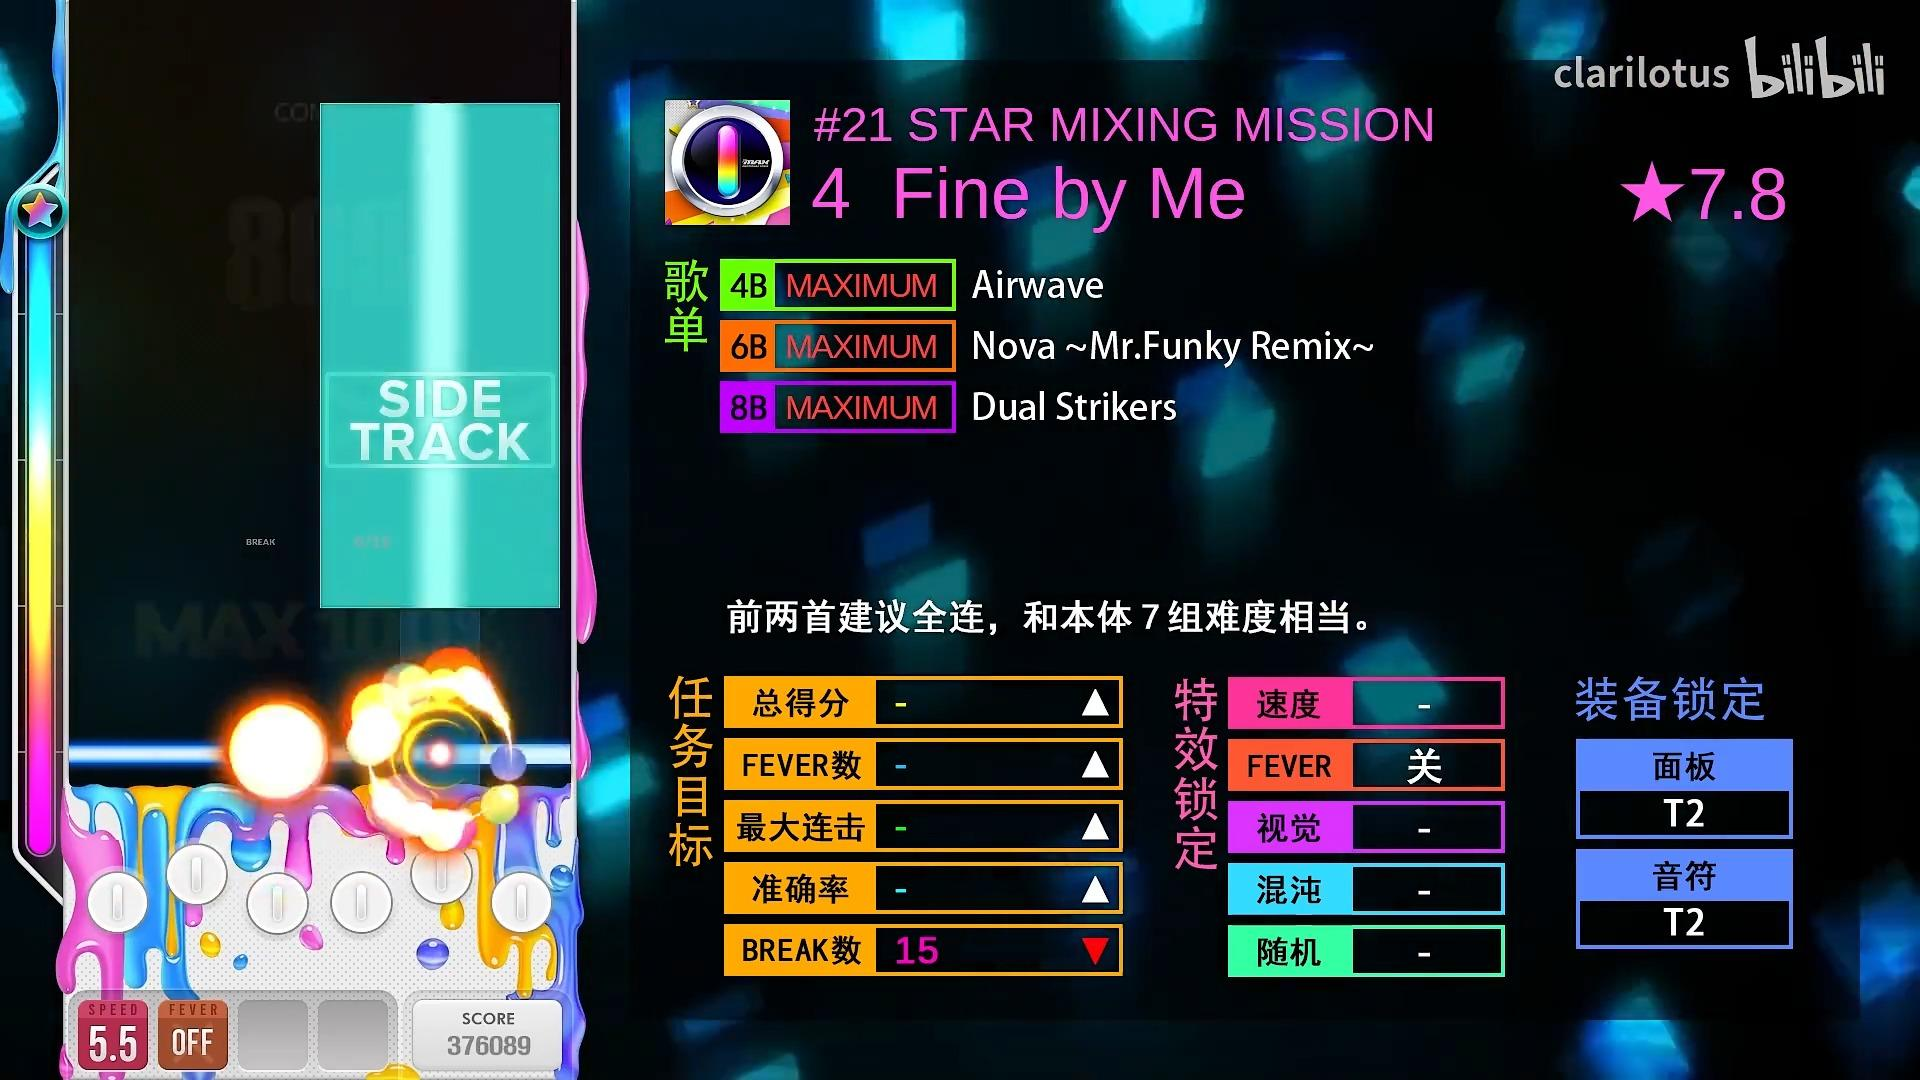side-end: (320, 103, 559, 120)
side-start: (320, 591, 559, 608)
